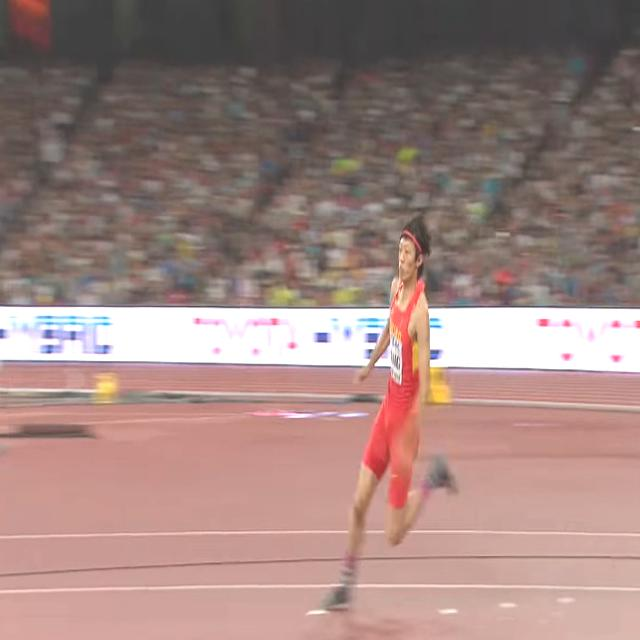run: (317, 220, 458, 606)
